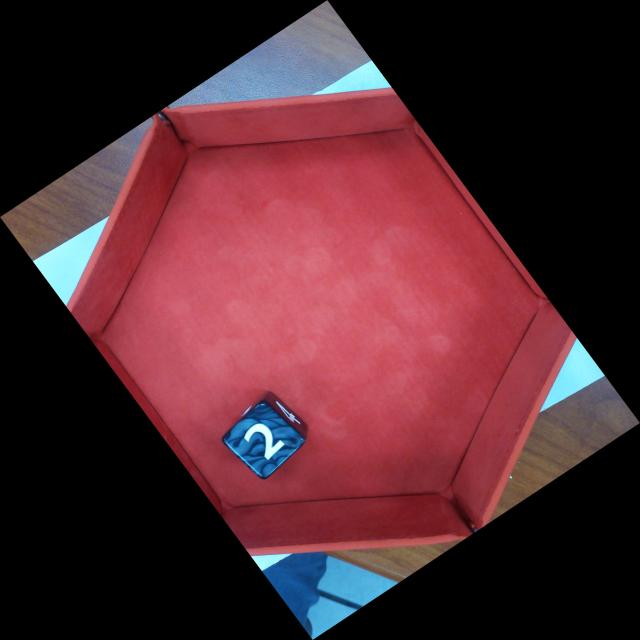dice: (228, 403, 305, 475)
